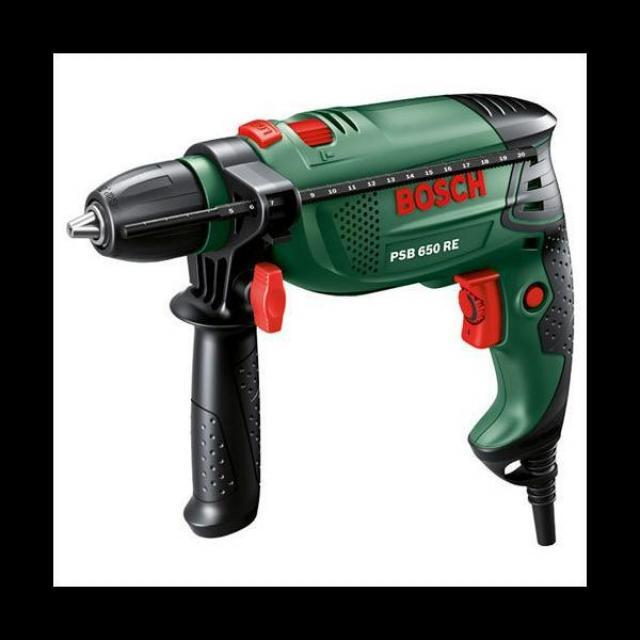drill: (65, 93, 575, 544)
